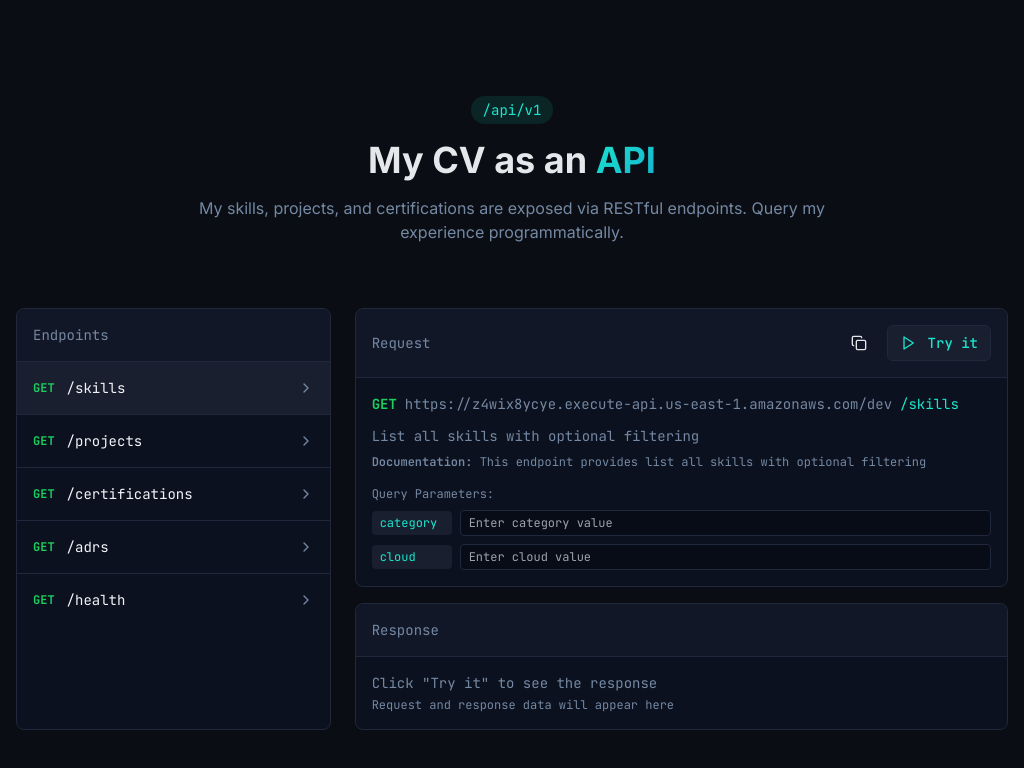
it: APIExplorer › displays no parameters message for endpoints without params
Select health endpoint (has no parameters)
What coordinates should you click on to do the following:
click the text "/health"
I would click on:
 (96, 600)
Its box is [67,591,125,609].
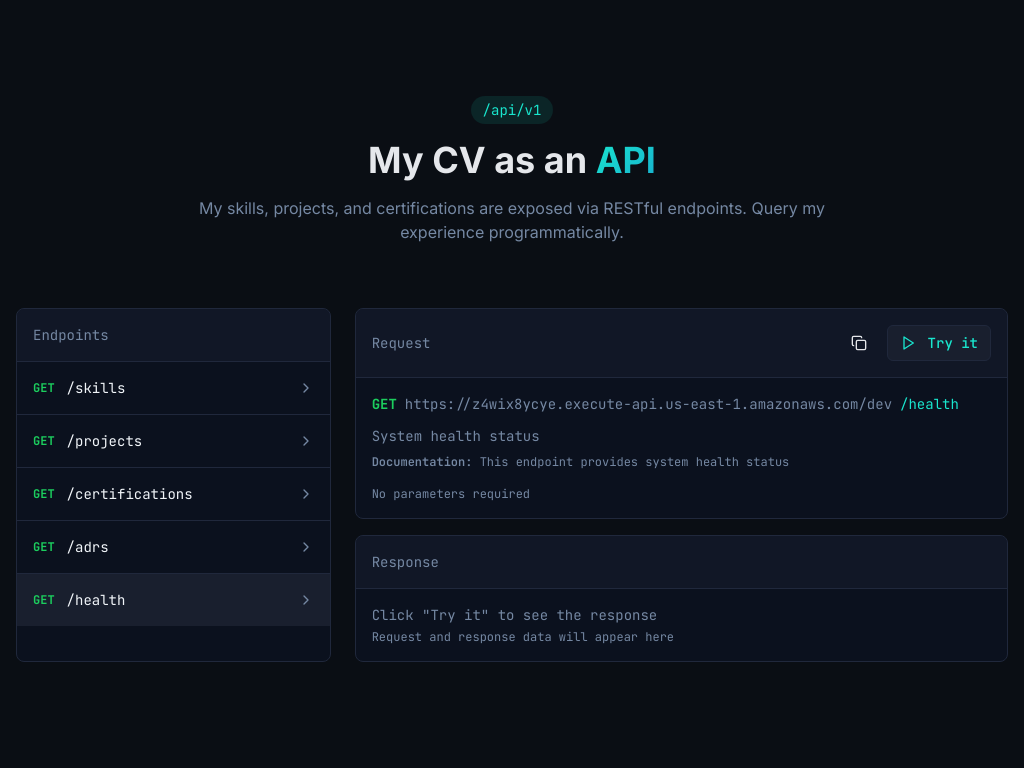
Check: the text "System health status" is shown, box [372,427,540,445]
Check: the text "No parameters required" is shown, box [372,486,530,502]
